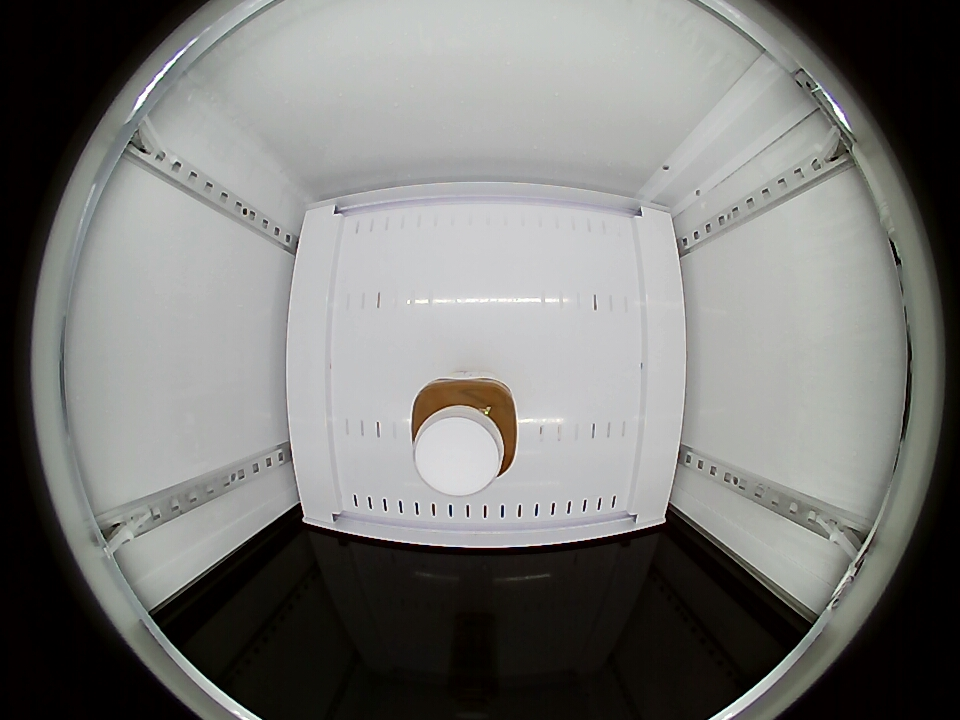chapai: (410, 374, 519, 497)
